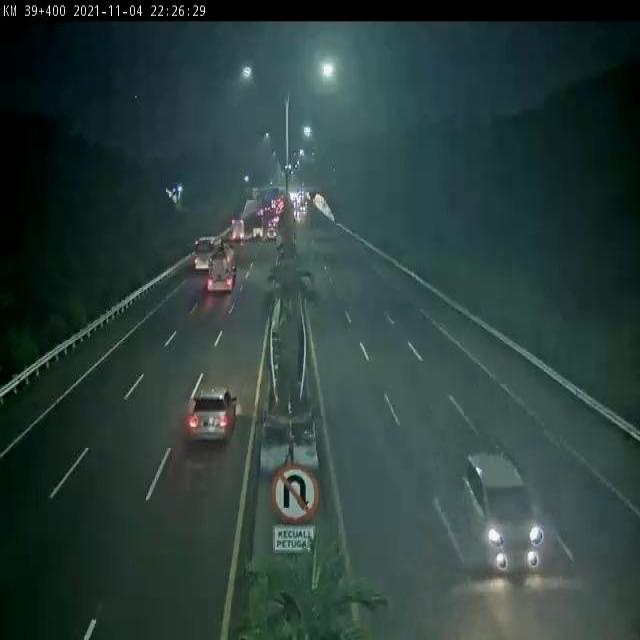Bus: (193, 234, 223, 272)
Car: (463, 451, 544, 572), (188, 386, 239, 443), (266, 226, 277, 242)
Truck: (205, 242, 238, 292), (252, 213, 265, 239), (231, 218, 245, 241)
